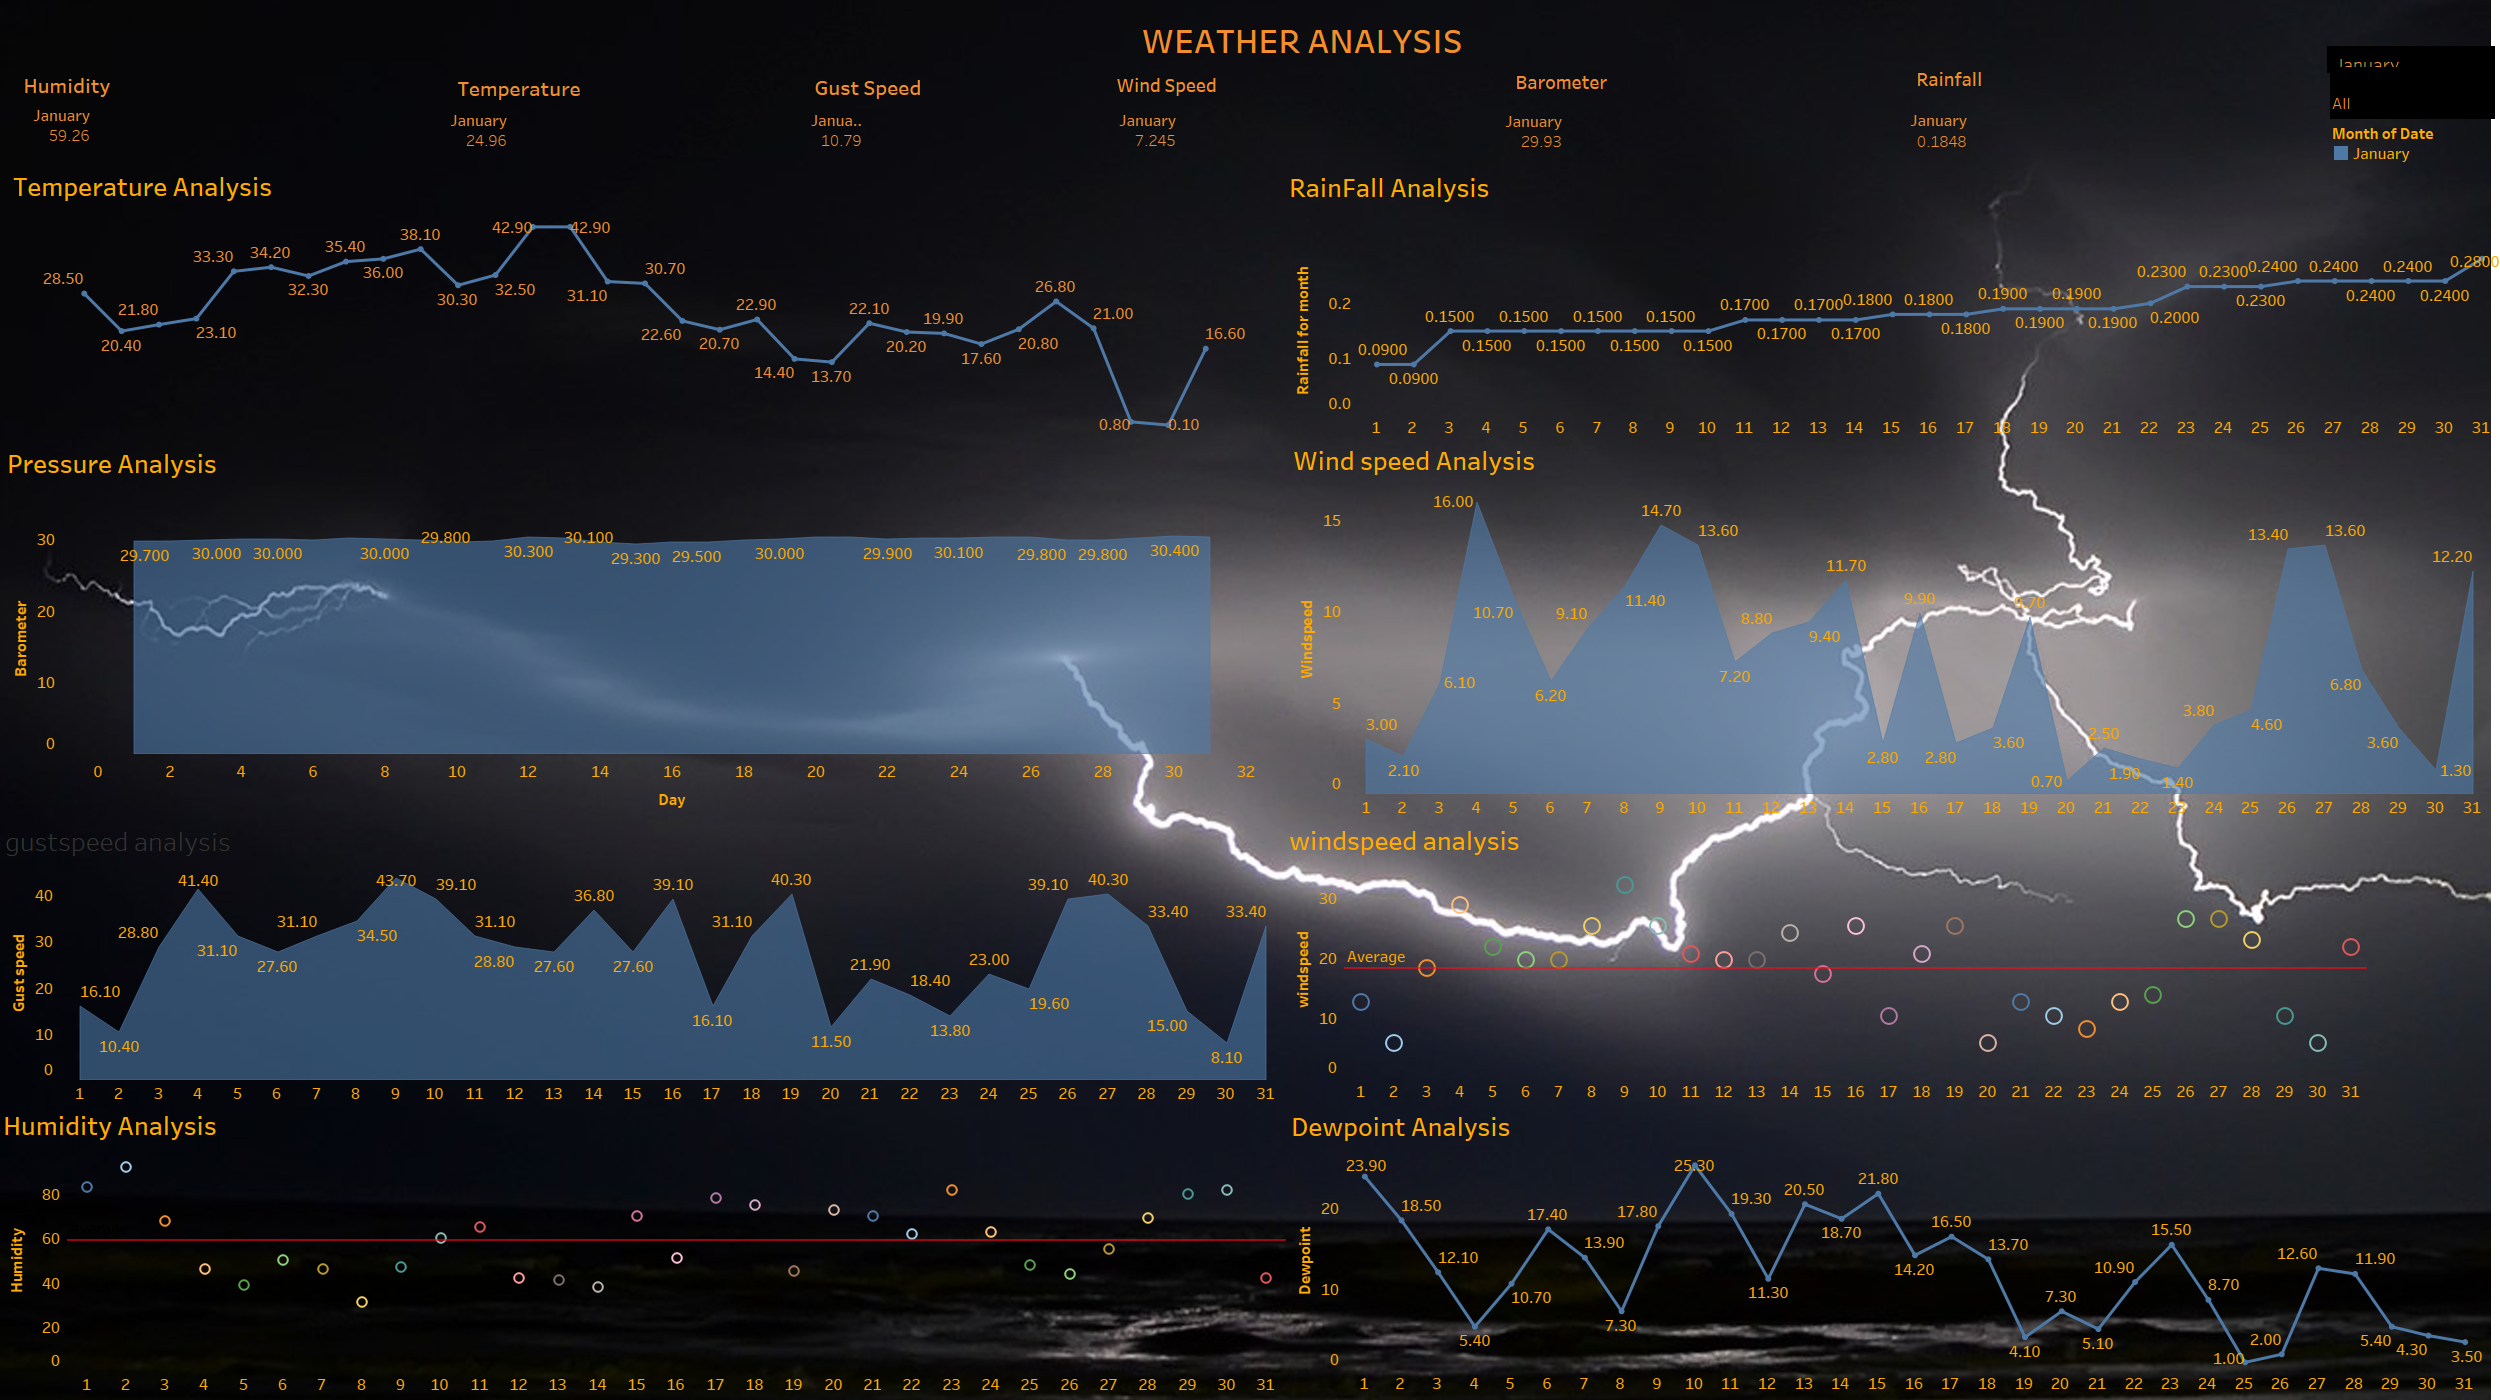

This screenshot's page, from the dashboard's own definition file:
{"tool":"tableau","page":{"name":"Dashboard 1","canvas":[2500,1400],"ordinal":0},"visuals":[{"type":"text","box":[1102.4,3.9,400,71.4]},{"type":"filter","title":"Sheet 10","param":"[federated.0jsqtw80ryvr9v18d5jj30ukak3k].[mn:Date:ok]","box":[2327.4,46.3,167.9,27]},{"type":"text","box":[1913.1,52.1,158.3,54.1]},{"type":"text","box":[1511.9,55,158.3,54.1]},{"type":"text","box":[1113.1,57.9,169.1,54.1]},{"type":"worksheet","title":"Sheet 14","mark":"Automatic","cols":["Date"],"box":[1883.3,59,438.1,93]},{"type":"worksheet","title":"Sheet 13","mark":"Automatic","cols":["Date"],"box":[1477.4,60.8,432.2,92.7]},{"type":"text","box":[20.2,65.7,214.3,38.6]},{"type":"text","box":[453.6,67.6,277.4,40.6]},{"type":"text","box":[810.7,70.5,188.1,33.8]},{"type":"filter","title":"Sheet1","param":"[federated.0jsqtw80ryvr9v18d5jj30ukak3k].[dy:Date:ok]","box":[2329.8,71.4,165.5,47.3]},{"type":"worksheet","title":"Sheet 12","mark":"Automatic","cols":["Date"],"box":[1103.6,94.6,370.2,58.9]},{"type":"worksheet","title":"Sheet 9","mark":"Automatic","cols":["Date"],"box":[14.3,105.2,407.2,53.1]},{"type":"worksheet","title":"Sheet 10","mark":"Automatic","cols":["Date"],"box":[440.5,110.1,359.5,47.3]},{"type":"worksheet","title":"Sheet 11","mark":"Automatic","cols":["Date"],"box":[806,110.1,292.9,46.3]},{"type":"legend","title":"Sheet 6","param":"[federated.0jsqtw80ryvr9v18d5jj30ukak3k].[mn:Date:ok]","box":[2331,120.7,165.5,104.3]},{"type":"worksheet","title":"Sheet1","mark":"Automatic","rows":["Average temperature"],"cols":["Date","Date"],"box":[7.4,163.3,1276.5,276.3]},{"type":"worksheet","title":"Sheet 2","mark":"Automatic","rows":["Rainfall for month"],"cols":["Date","Date"],"box":[1285.3,164.3,1214.7,275.3]},{"type":"worksheet","title":"Sheet 4","mark":"Area","rows":["Average windspeed"],"cols":["Date","Date"],"box":[1289.3,437.4,1202.4,382.3]},{"type":"worksheet","title":"Sheet 5","mark":"Area","rows":["Average barometer"],"cols":["Date","Date"],"box":[3,439.6,1279.4,377.1]},{"type":"worksheet","title":"Sheet 8","mark":"Shape","rows":["Maximum windspeed"],"cols":["Date","Date"],"box":[1285,817,1213,286]},{"type":"worksheet","title":"Sheet 7","mark":"Area","rows":["Maximum gust speed"],"cols":["Date","Date"],"box":[1.5,817.6,1285.3,287.5]},{"type":"worksheet","title":"Sheet 6","mark":"Line","rows":["Average dewpoint"],"cols":["Date","Date"],"box":[1286.8,1103.2,1195.6,292.1]}]}

Visuals, with their boxes in screenshot pixels (x1, y1, x2, y2), scaled from the page's 2500x1400 canvas onto the 2500x1400 screenshot:
text: {"x1": 1102, "y1": 4, "x2": 1502, "y2": 75}
"Sheet 10" filter: {"x1": 2327, "y1": 46, "x2": 2495, "y2": 73}
text: {"x1": 1913, "y1": 52, "x2": 2071, "y2": 106}
text: {"x1": 1512, "y1": 55, "x2": 1670, "y2": 109}
text: {"x1": 1113, "y1": 58, "x2": 1282, "y2": 112}
"Sheet 14" worksheet: {"x1": 1883, "y1": 59, "x2": 2321, "y2": 152}
"Sheet 13" worksheet: {"x1": 1477, "y1": 61, "x2": 1910, "y2": 154}
text: {"x1": 20, "y1": 66, "x2": 234, "y2": 104}
text: {"x1": 454, "y1": 68, "x2": 731, "y2": 108}
text: {"x1": 811, "y1": 70, "x2": 999, "y2": 104}
"Sheet1" filter: {"x1": 2330, "y1": 71, "x2": 2495, "y2": 119}
"Sheet 12" worksheet: {"x1": 1104, "y1": 95, "x2": 1474, "y2": 154}
"Sheet 9" worksheet: {"x1": 14, "y1": 105, "x2": 422, "y2": 158}
"Sheet 10" worksheet: {"x1": 440, "y1": 110, "x2": 800, "y2": 157}
"Sheet 11" worksheet: {"x1": 806, "y1": 110, "x2": 1099, "y2": 156}
"Sheet 6" legend: {"x1": 2331, "y1": 121, "x2": 2496, "y2": 225}
"Sheet1" worksheet: {"x1": 7, "y1": 163, "x2": 1284, "y2": 440}
"Sheet 2" worksheet: {"x1": 1285, "y1": 164, "x2": 2499, "y2": 440}
"Sheet 4" worksheet (Area marks): {"x1": 1289, "y1": 437, "x2": 2492, "y2": 820}
"Sheet 5" worksheet (Area marks): {"x1": 3, "y1": 440, "x2": 1282, "y2": 817}
"Sheet 8" worksheet (Shape marks): {"x1": 1285, "y1": 817, "x2": 2498, "y2": 1103}
"Sheet 7" worksheet (Area marks): {"x1": 2, "y1": 818, "x2": 1287, "y2": 1105}
"Sheet 6" worksheet (Line marks): {"x1": 1287, "y1": 1103, "x2": 2482, "y2": 1395}
